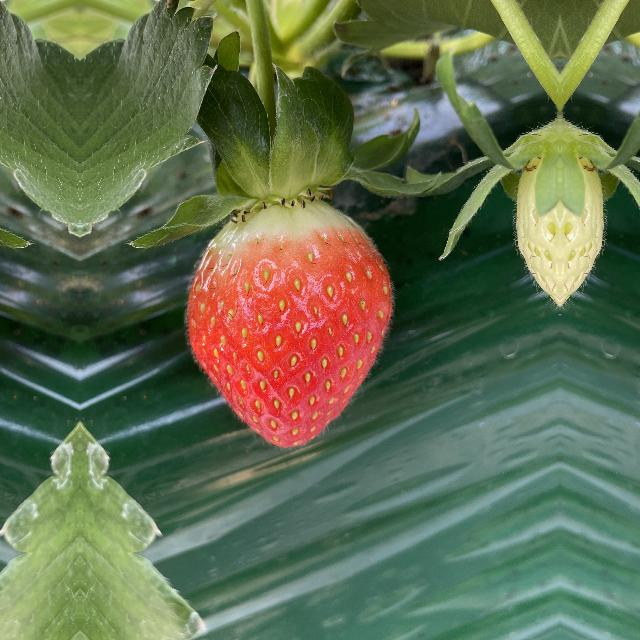Health_100: (185, 192, 399, 454)
